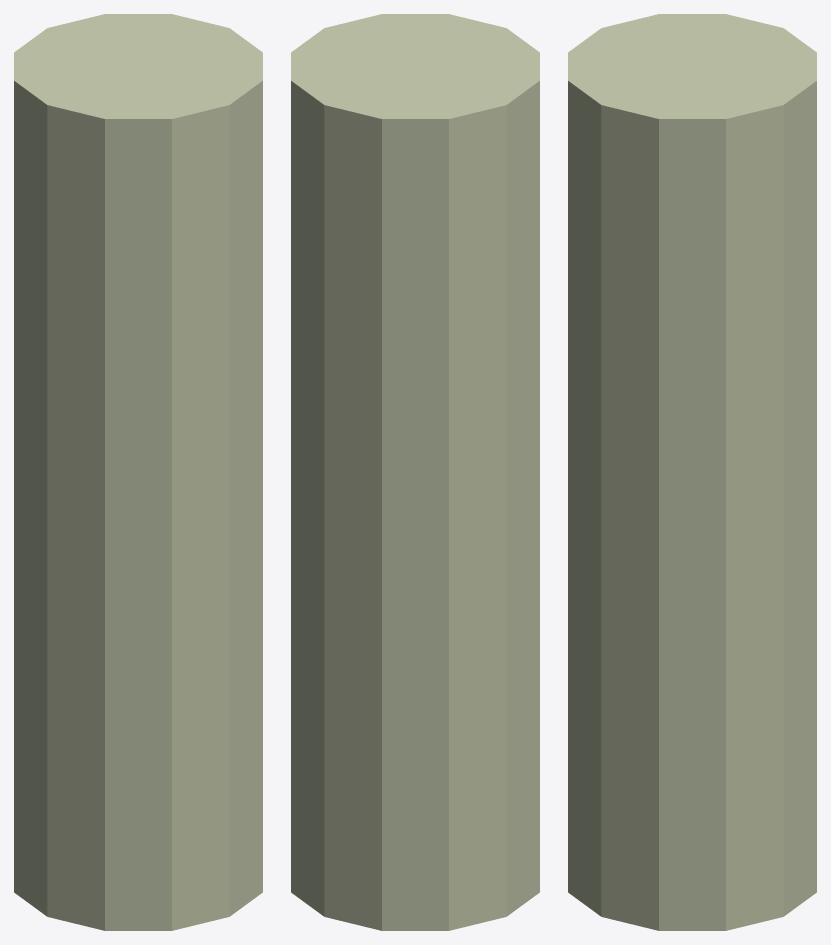
Rendered from alnair_les_s0_1_collider.obj.
The picture shows the model from 3 angles, left to right: view 1: azimuth 30°, elevation 25°; view 2: azimuth 150°, elevation 25°; view 3: azimuth 270°, elevation 25°; orthographic projection.
Visible parts, largest first — view 1: collider; view 2: collider; view 3: collider.
Part boxes in pixels (<box>): collider: <box>14,14,262,930</box>; collider: <box>291,14,539,930</box>; collider: <box>568,14,816,930</box>.
Size of the model in its own units: 0.5 by 1.8 by 0.5.
